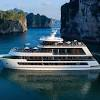tau_dansu: (2, 37, 100, 71)
